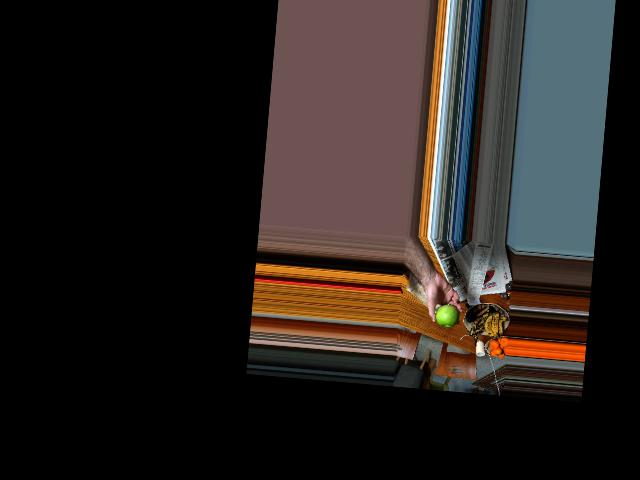apple: (432, 301, 460, 330)
